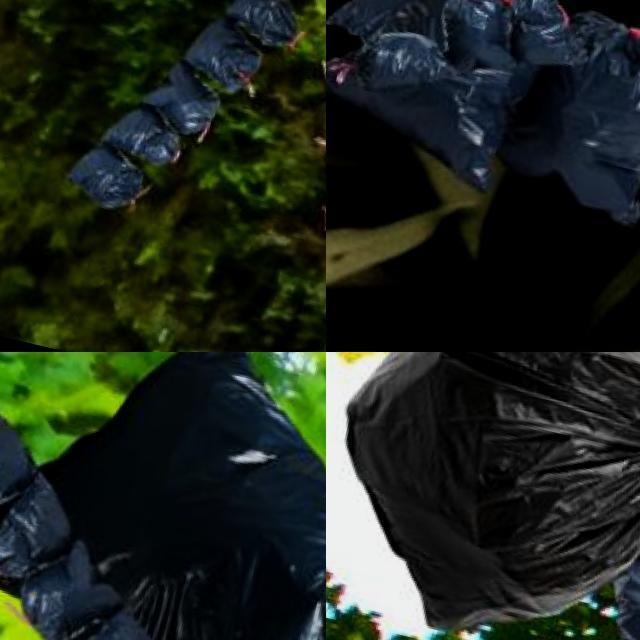waste: (0, 352, 326, 640), (326, 352, 640, 640), (326, 0, 537, 172), (504, 0, 640, 227), (15, 535, 130, 640), (0, 462, 85, 590), (177, 9, 268, 94), (139, 56, 228, 136), (62, 147, 158, 215), (100, 102, 185, 164), (222, 0, 312, 52), (0, 405, 39, 524), (63, 601, 178, 640)
